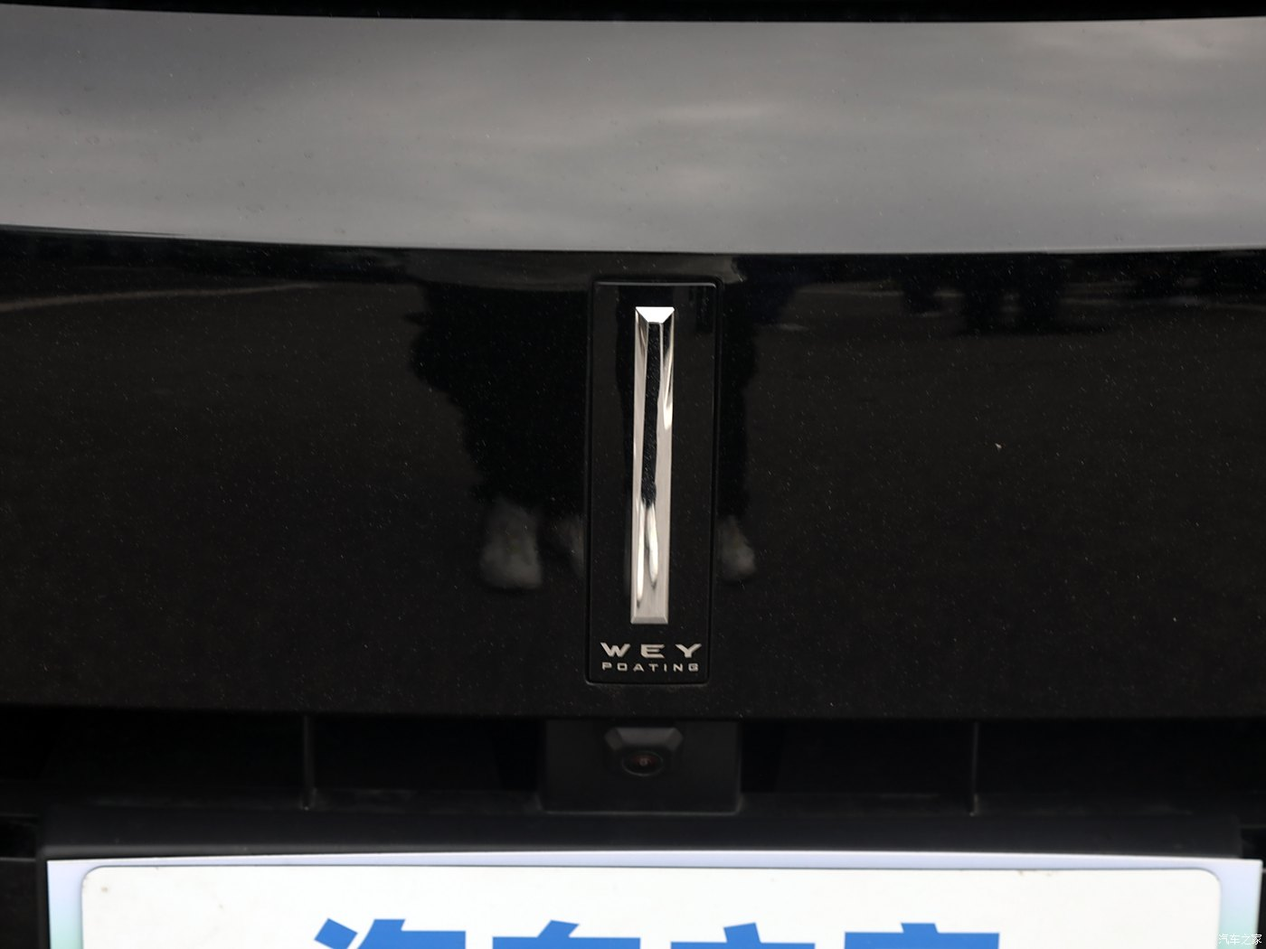WEY: (594, 285, 713, 683)
